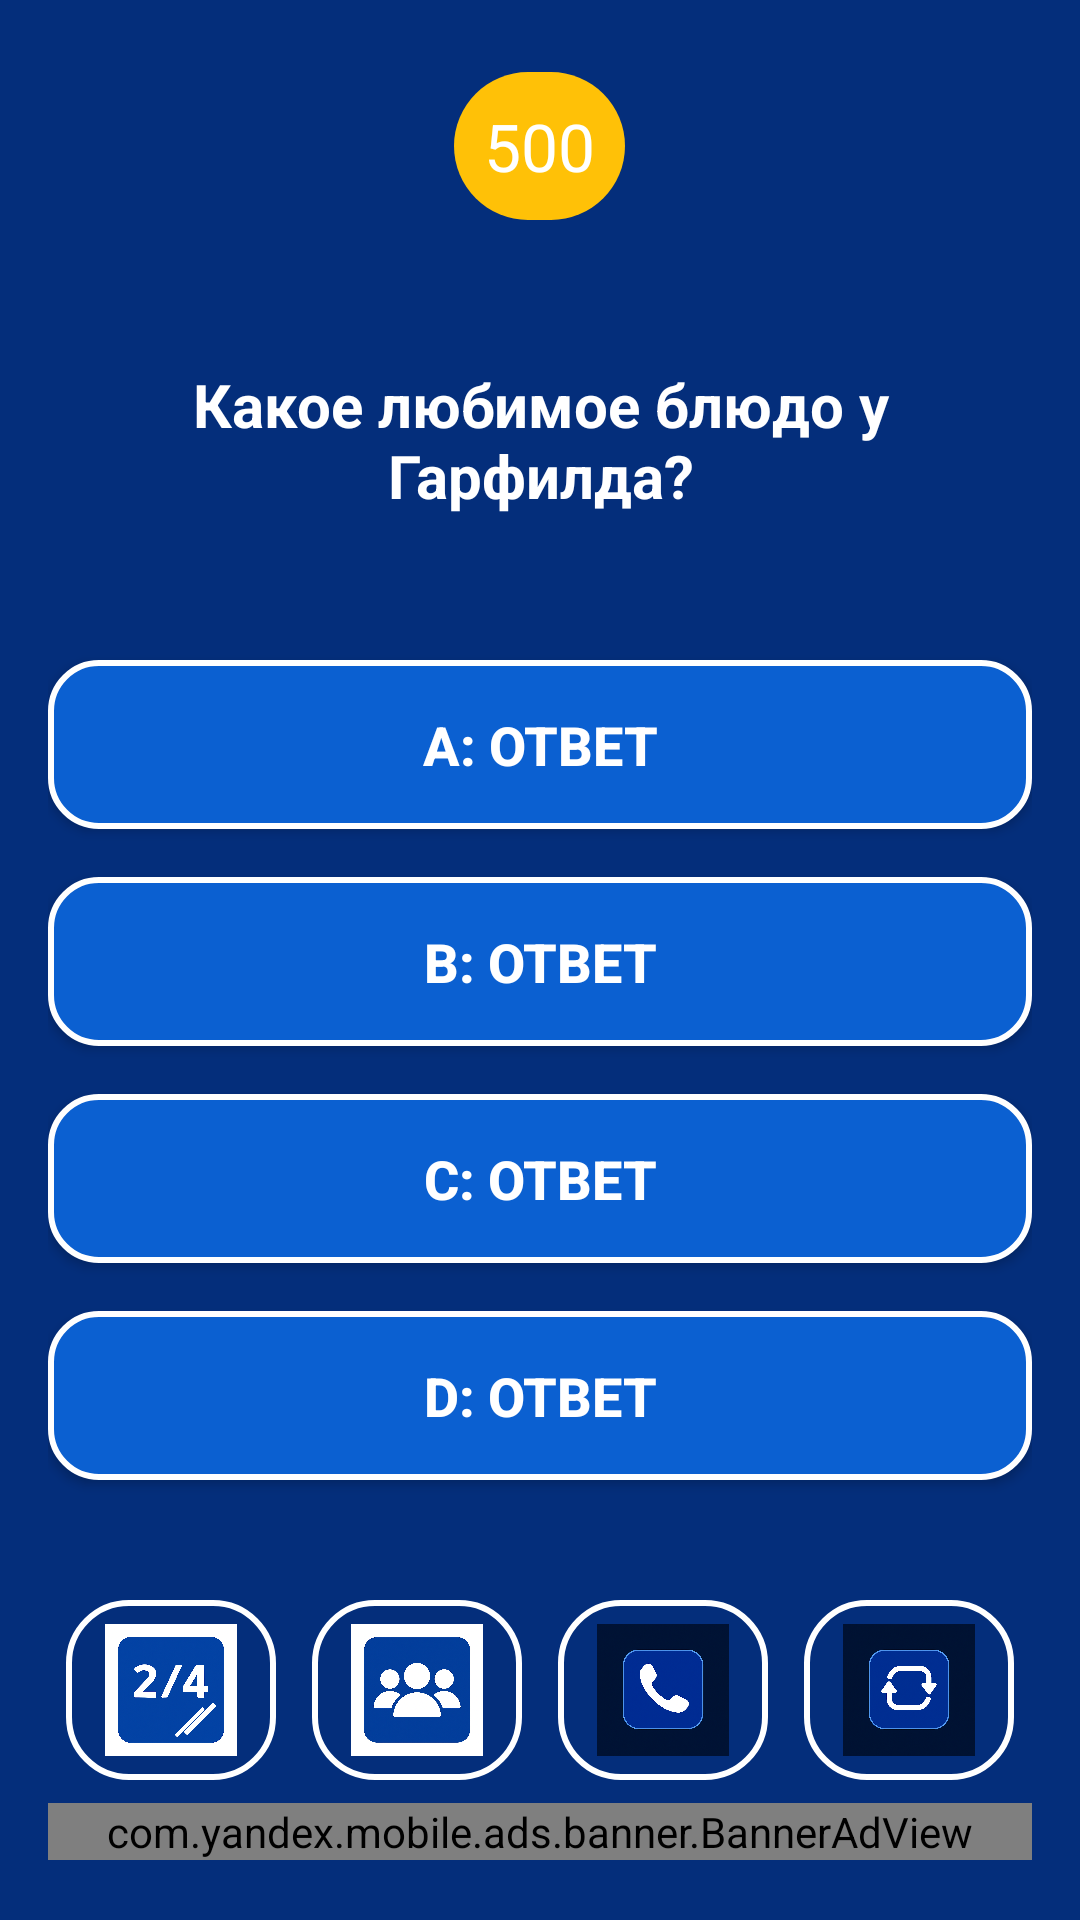

Screen size 1080w x 1920h. Icon name, then its center in pixels as (x,y):
audience: (417,1690)
call: (663,1690)
change: (909,1690)
fifty: (171,1690)
